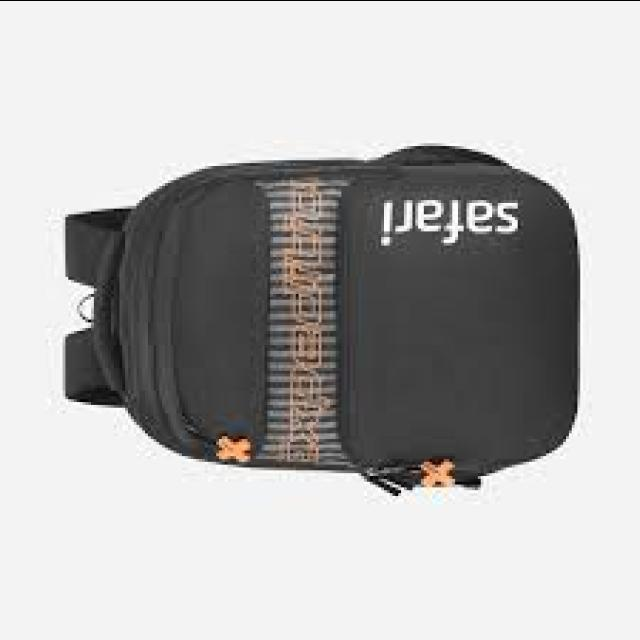backpack: (61, 147, 581, 499)
